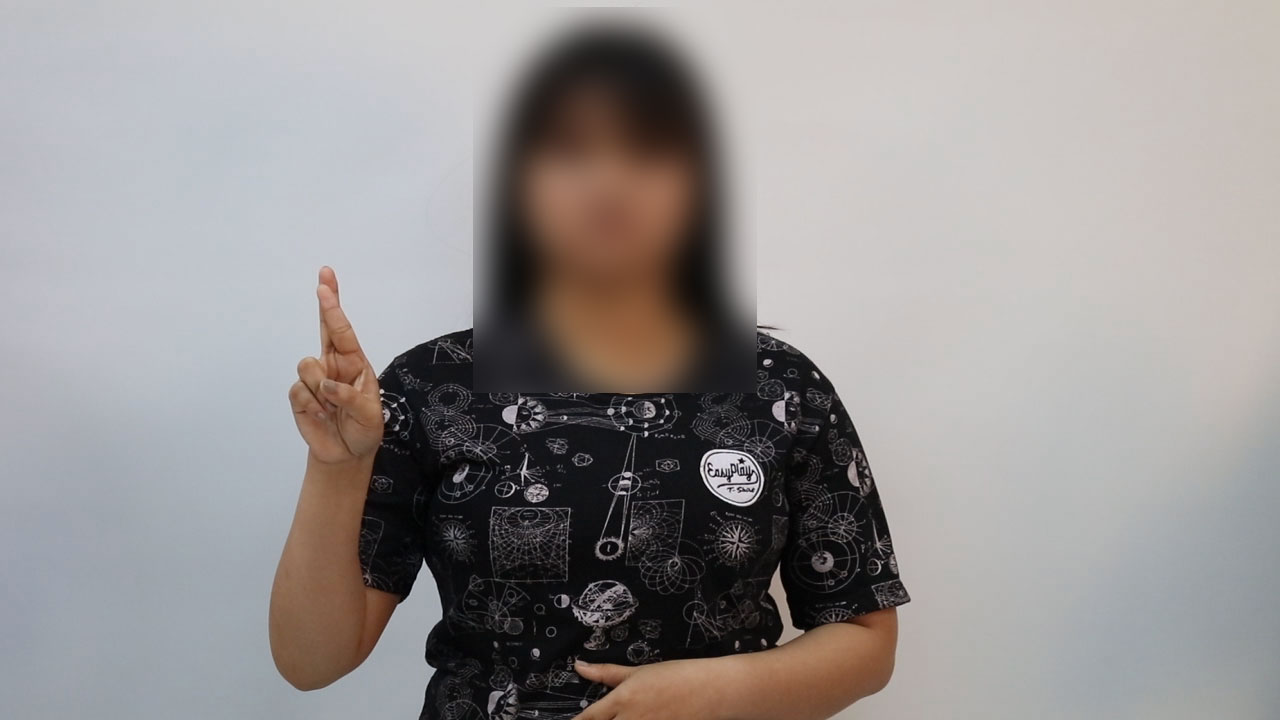rao: (276, 260, 392, 471)
